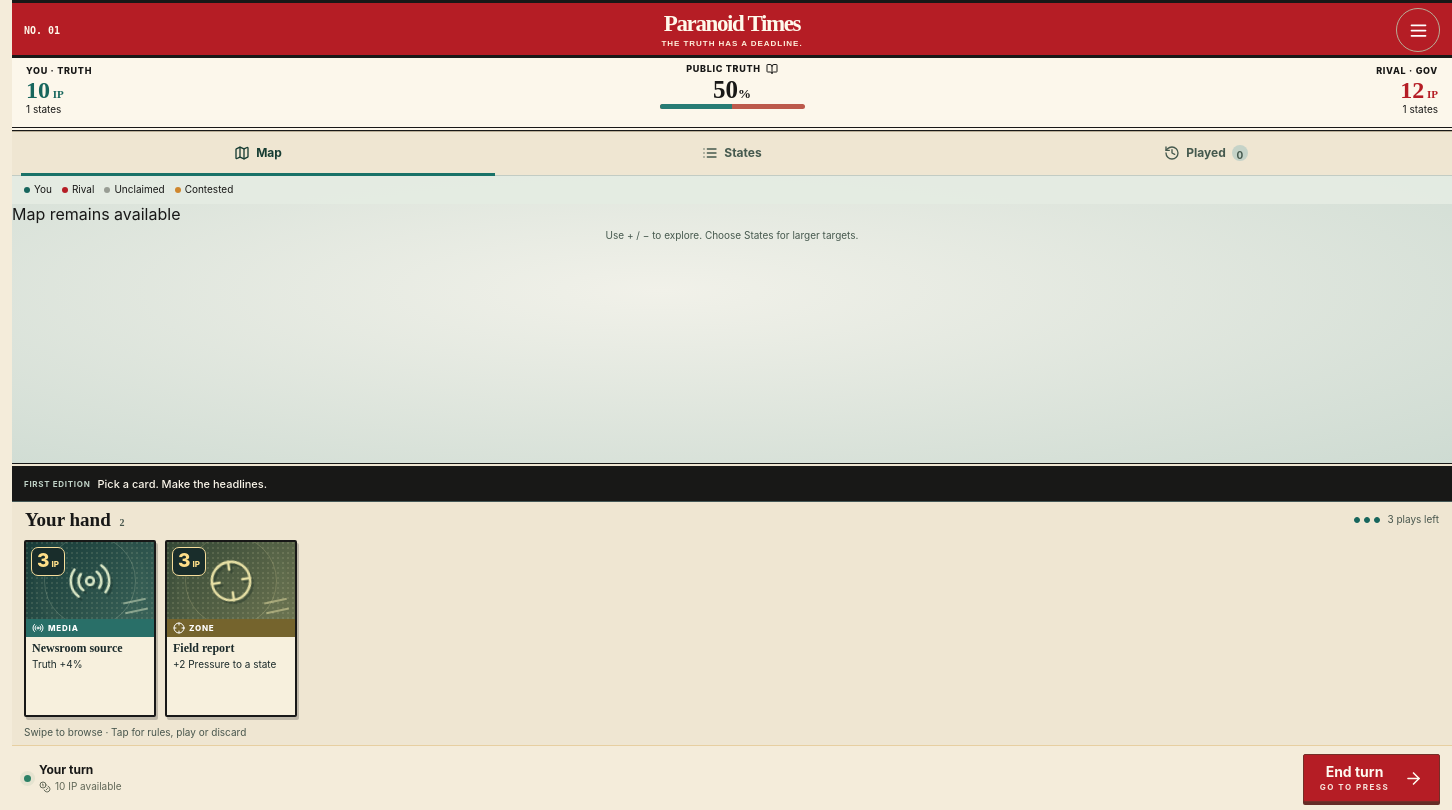
Test: mobile battle actions › offers state details without playing a card and one working end-turn action
The image size is (1452, 810).
Later steps or results of the test are not shown.
Press the mouse on the tab "States" at (732, 154), box x1=495 y1=132 x2=969 y2=176
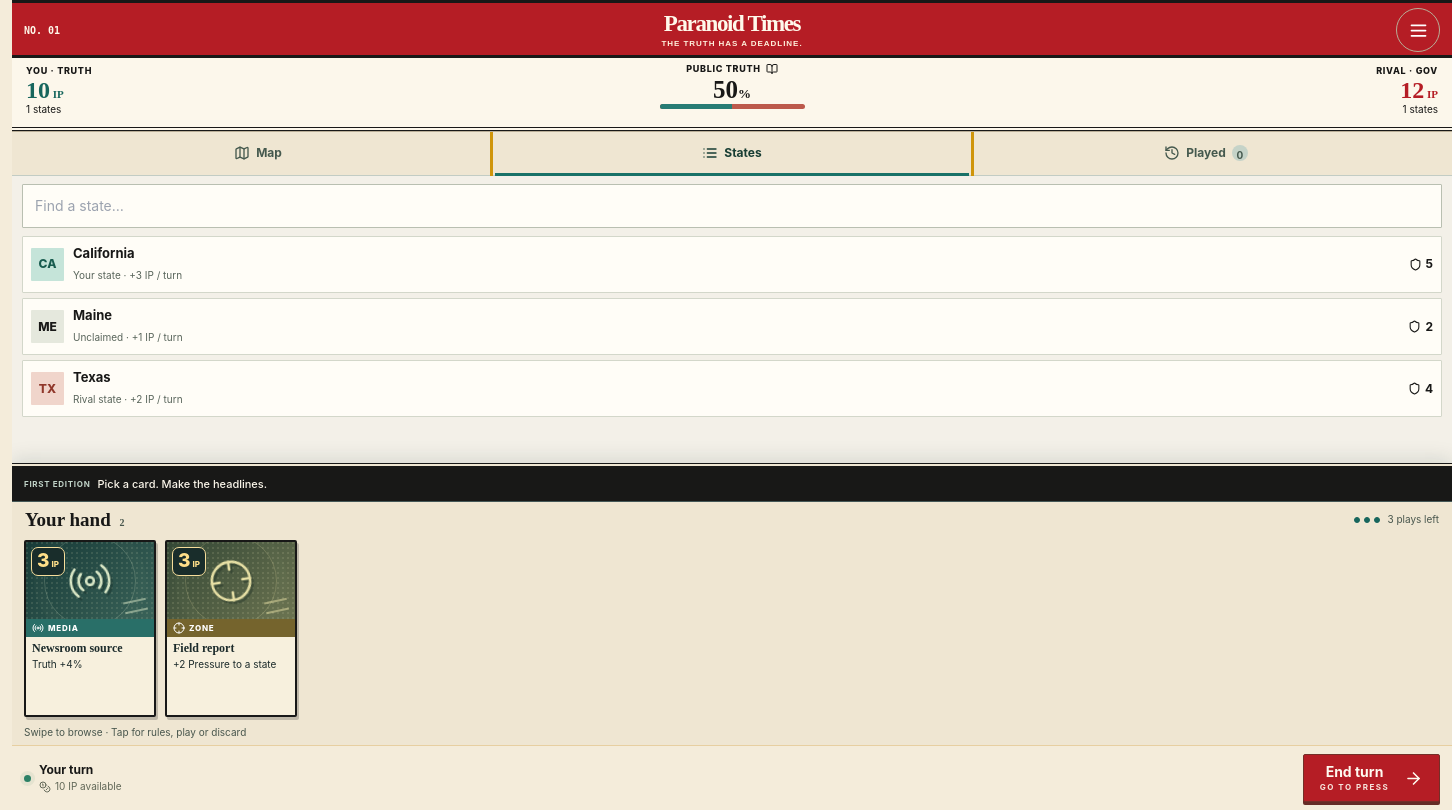
Click the button with aria-label "Inspect Texas" at (48, 389), box x1=22 y1=360 x2=1442 y2=417
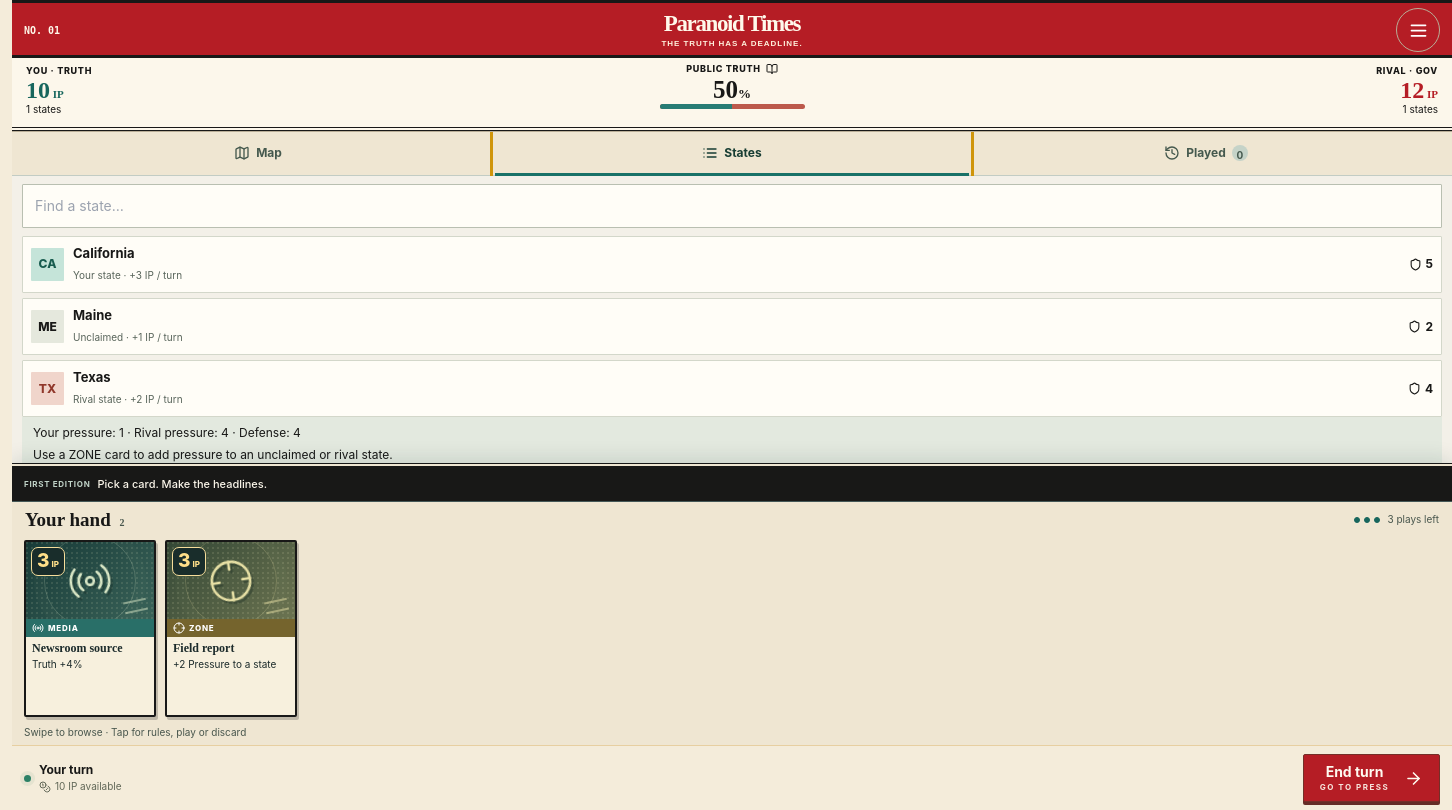
Expected: the number of buttons "End turn GO TO PRESS" is 1, x1=1303 y1=754 x2=1440 y2=802
Expected: the text "Your pressure: 1 · Rival pressure: 4 · Defense: 4" is shown, x1=22 y1=417 x2=1442 y2=463
